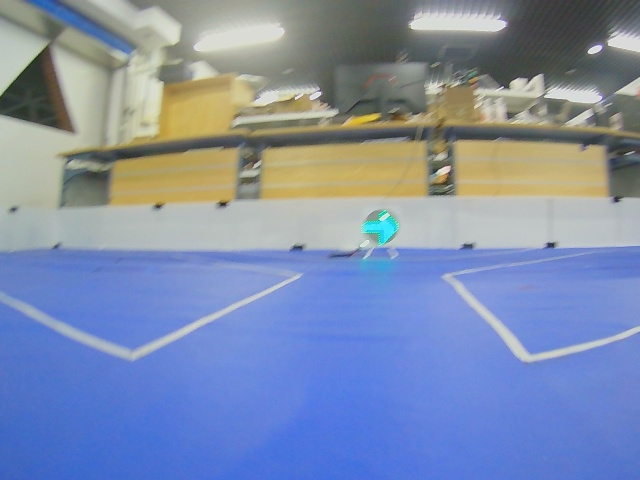right_green: (361, 210, 399, 246)
